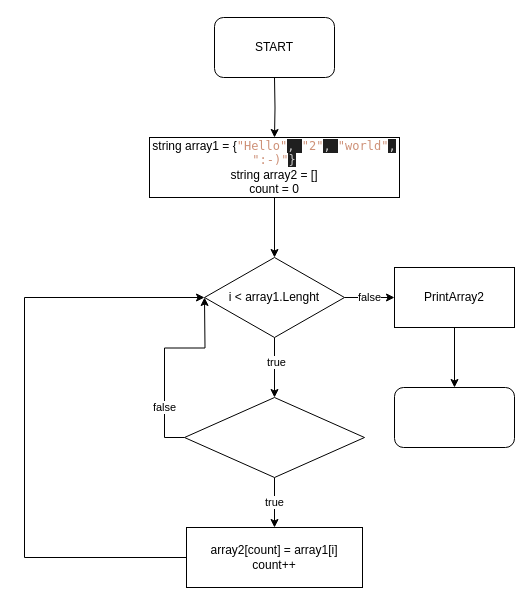
The diagram is 532 pixels wide and 605 high, and some of its shapes have lost their labels. Each missing label, with the centre of its shape:
array1[i].Lenght <= 3: the point at 274,437
STOP: the point at 454,417
